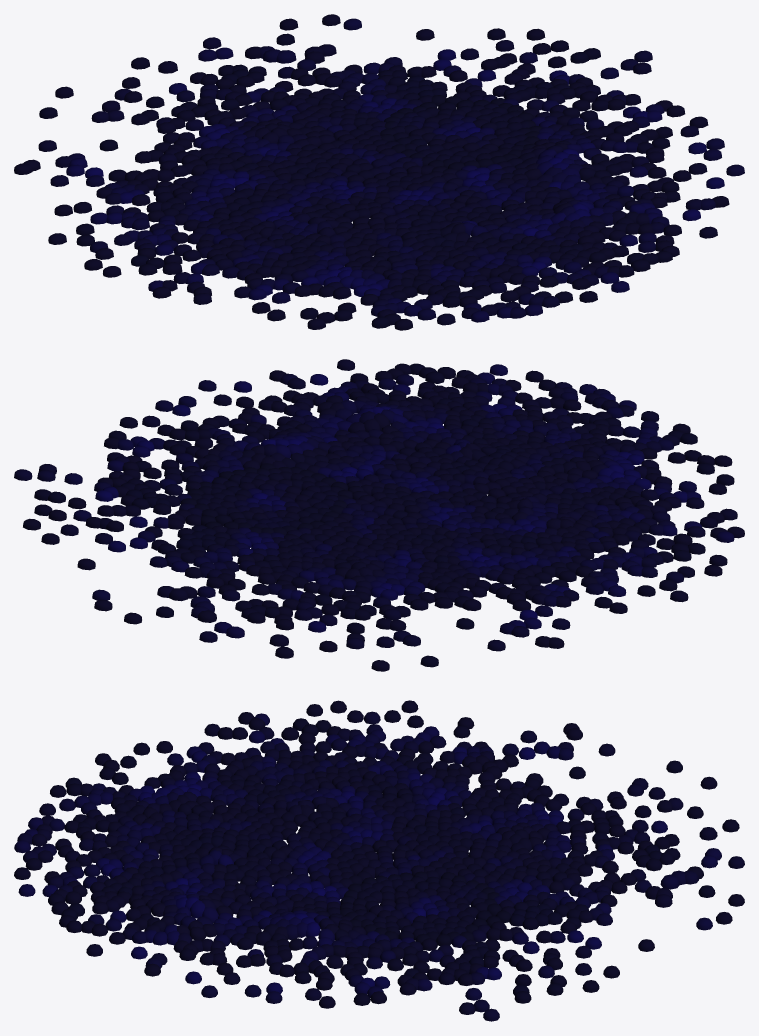
File: Grass vertex color.fbx
3 views of the same model, one above another, from view 1: azimuth 30°, elevation 25°; view 2: azimuth 150°, elevation 25°; view 3: azimuth 270°, elevation 25° (orthographic). The views are drawn at different scales.
Visible parts, largest first — view 1: Instanced Grass.001; view 2: Instanced Grass.001; view 3: Instanced Grass.001.
Boxes of the visible parts, <box> form: Instanced Grass.001: <box>14,14,744,330</box>; Instanced Grass.001: <box>14,359,744,671</box>; Instanced Grass.001: <box>14,700,744,1021</box>.
Bounding box in the file's own units: 3232 × 68.61 × 3152.
